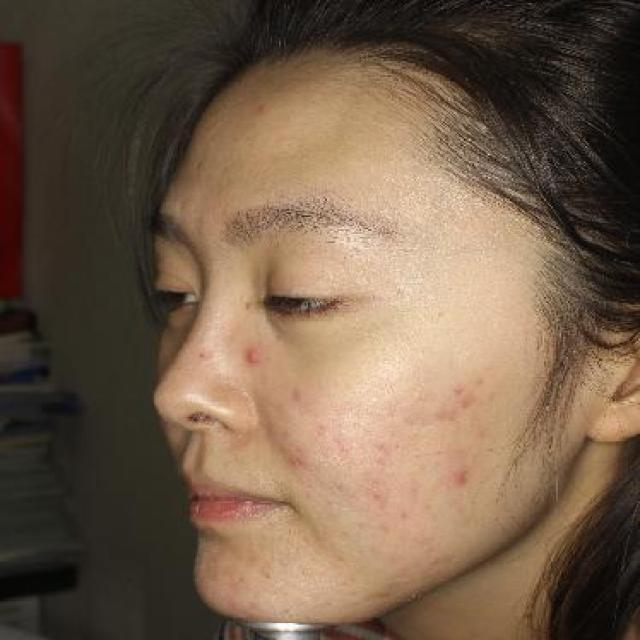papules: (233, 341, 270, 374)
